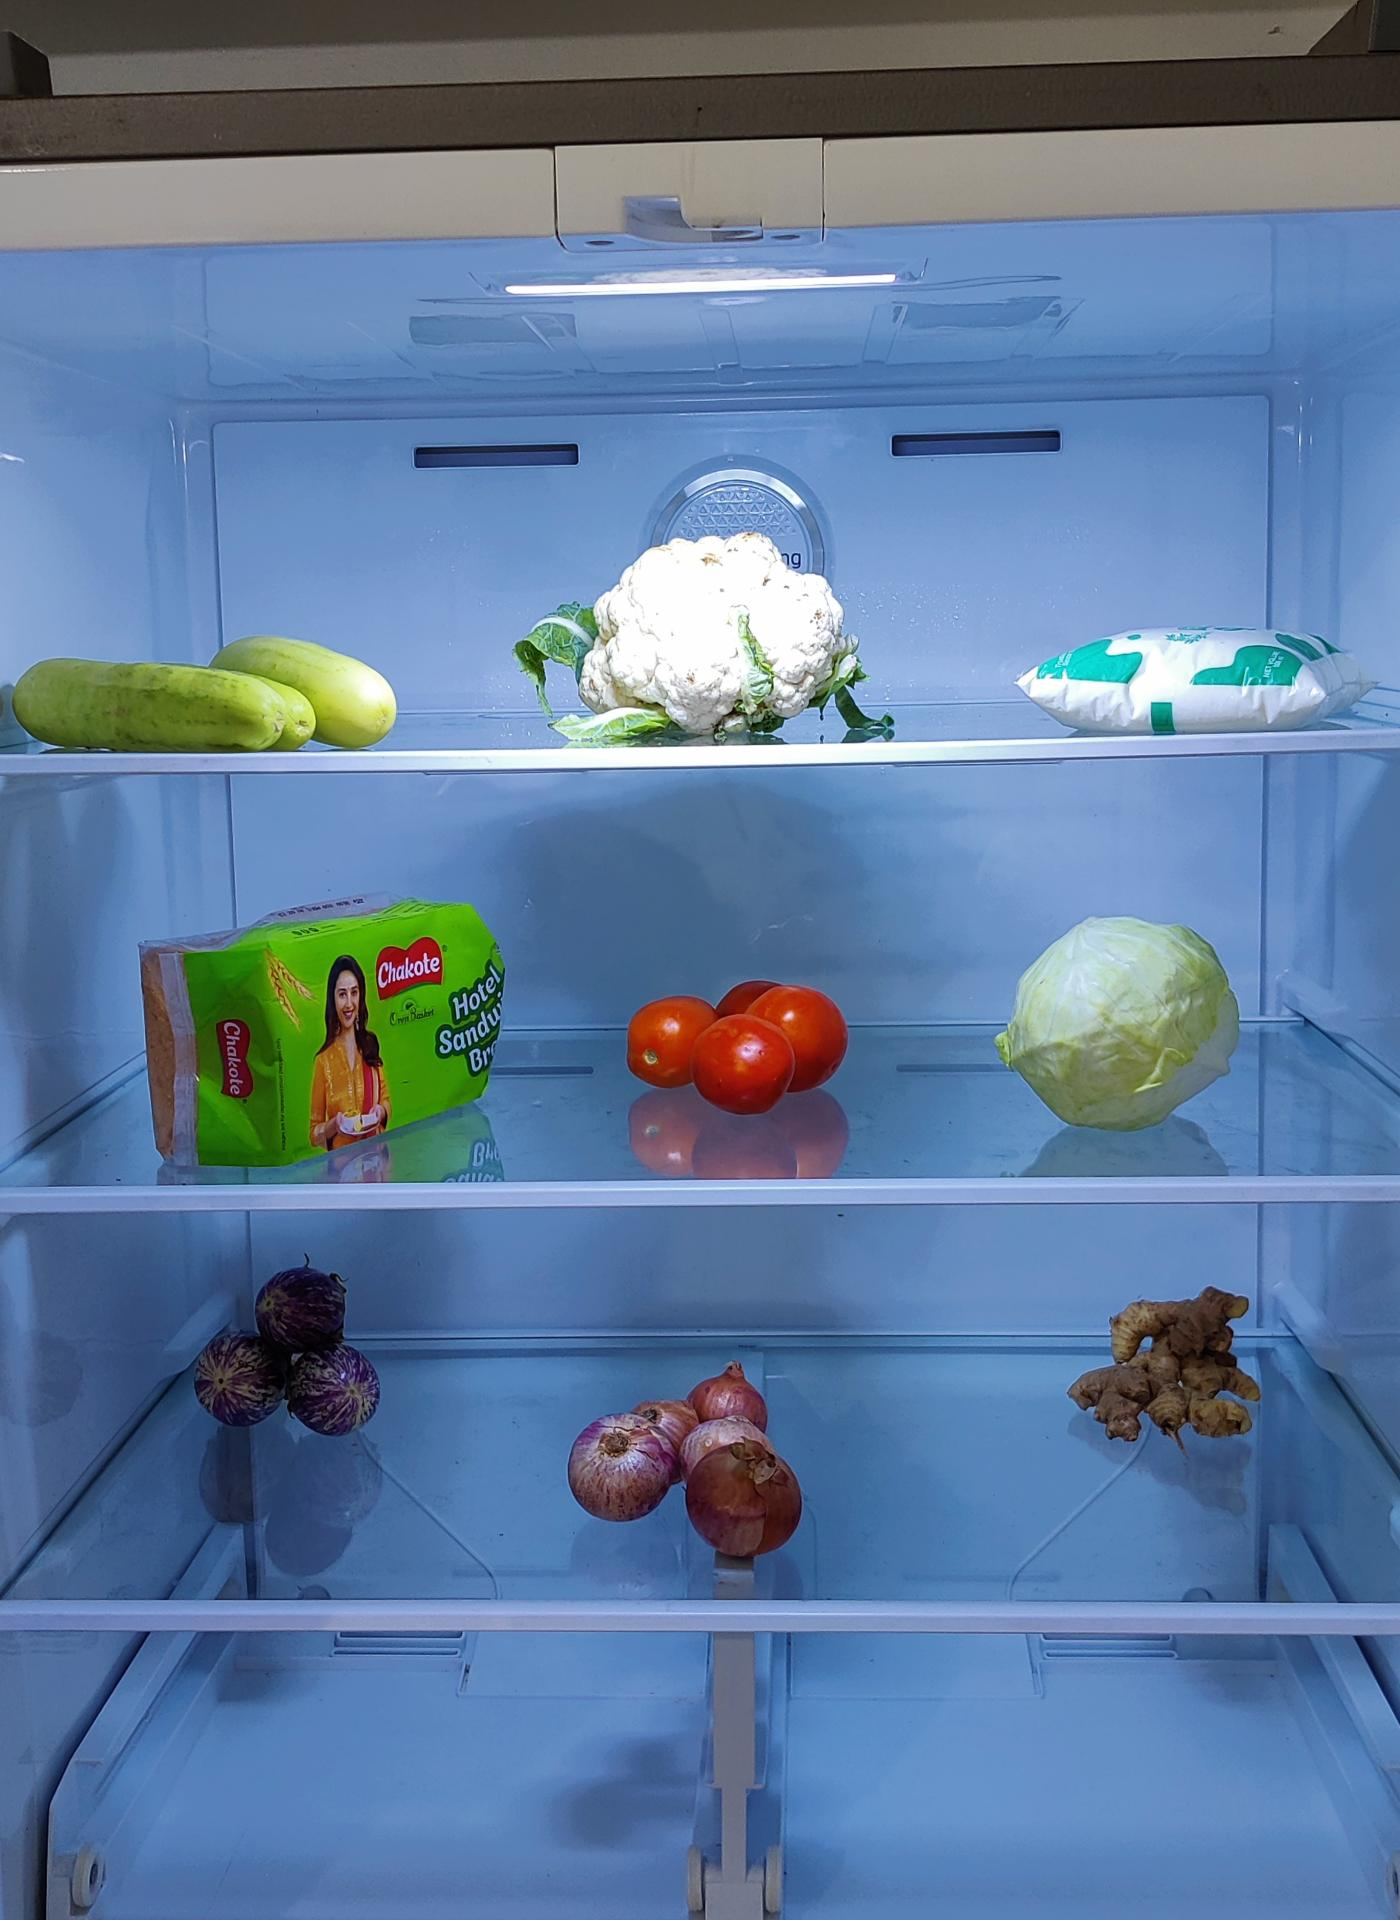bread: (121, 897, 505, 1172)
brinjal: (195, 1255, 388, 1441)
cabbage: (997, 921, 1245, 1140)
cauliflower: (570, 537, 857, 735)
cucumber: (21, 644, 410, 777)
ginger: (1065, 1280, 1261, 1444)
milk: (1021, 620, 1379, 738)
onion: (568, 1361, 811, 1562)
tomato: (631, 975, 857, 1128)
